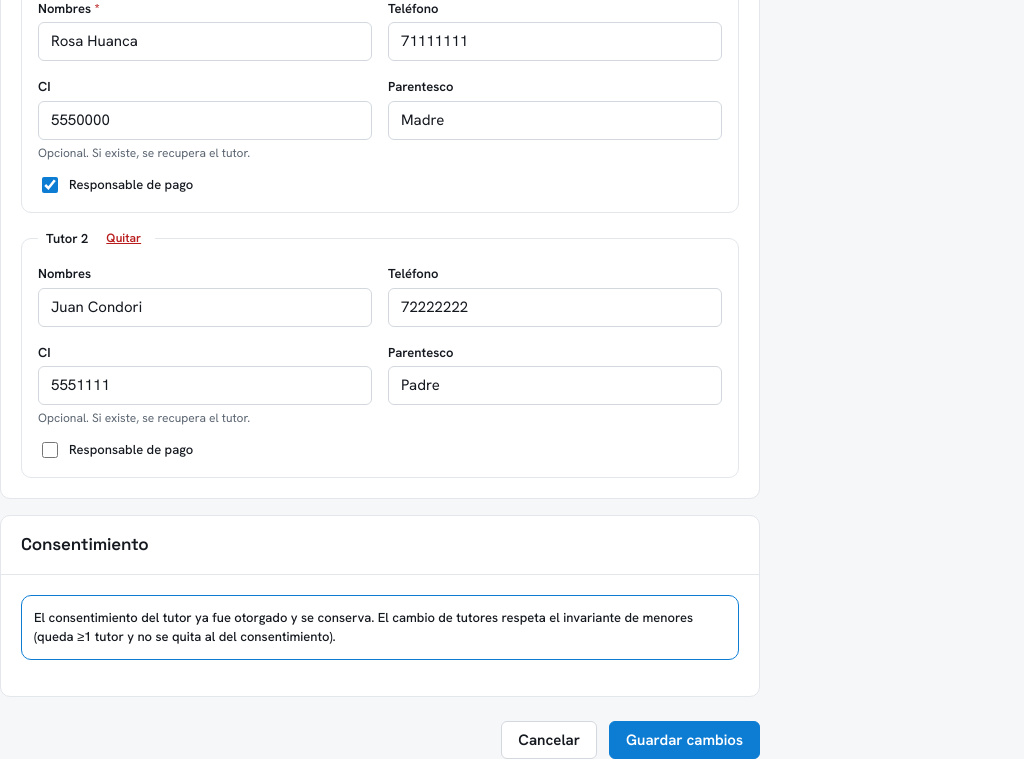
Test: NuevoDeportista — modo EDICIÓN (Fase 3) › muestra el mensaje 422 del backend (invariante de menores) sin crash
(page scrolled)
Click the button "Guardar cambios".
click(684, 740)  # box top-left (609, 720), bottom-right (760, 758)
(page scrolled)
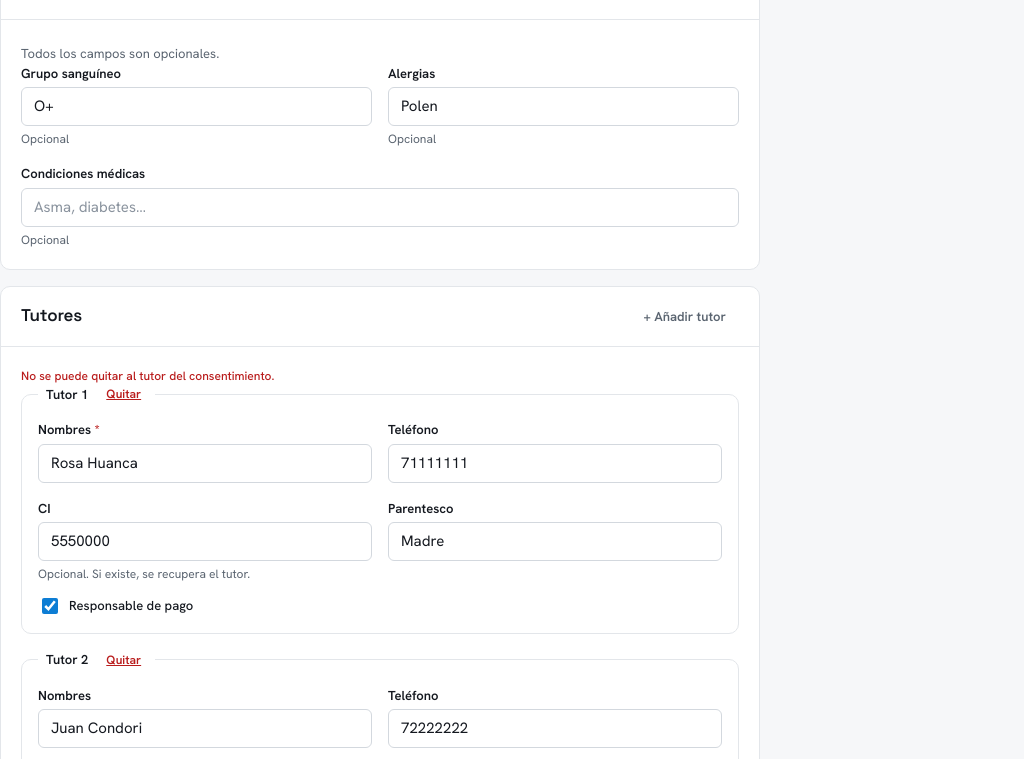
Expected: the text "No se puede quitar al tutor del consentimiento." is shown, top-left (21, 368), bottom-right (274, 384)
